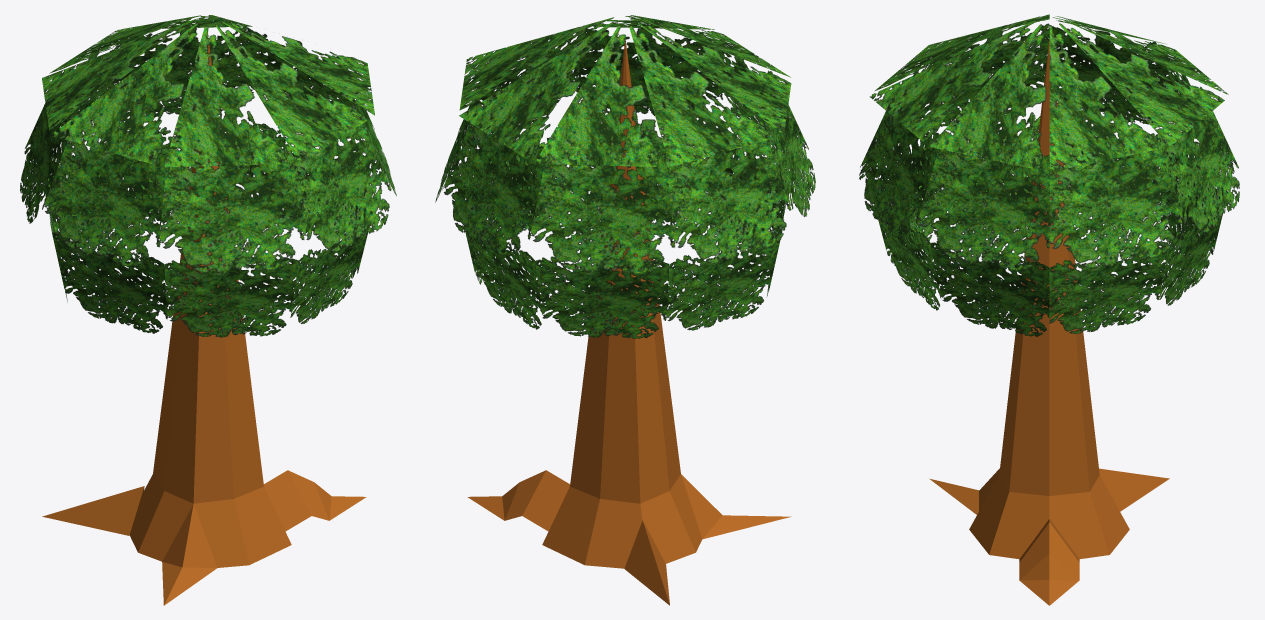
File: oaktree.glb
The picture shows the model from 3 angles, left to right: view 1: azimuth 30°, elevation 25°; view 2: azimuth 150°, elevation 25°; view 3: azimuth 270°, elevation 25°; orthographic projection.
Visible parts, largest first — view 1: leaves, tree; view 2: leaves, tree; view 3: leaves, tree.
Boxes of the visible parts, x1=… form: leaves: x1=20, y1=15, x2=396, y2=337; tree: x1=42, y1=45, x2=366, y2=605; leaves: x1=435, y1=15, x2=815, y2=338; tree: x1=467, y1=38, x2=791, y2=605; leaves: x1=859, y1=14, x2=1239, y2=336; tree: x1=929, y1=38, x2=1169, y2=605.
Bounding box in the file's own units: 2.58 × 3.65 × 2.58.
2 materials, 1 textured.
